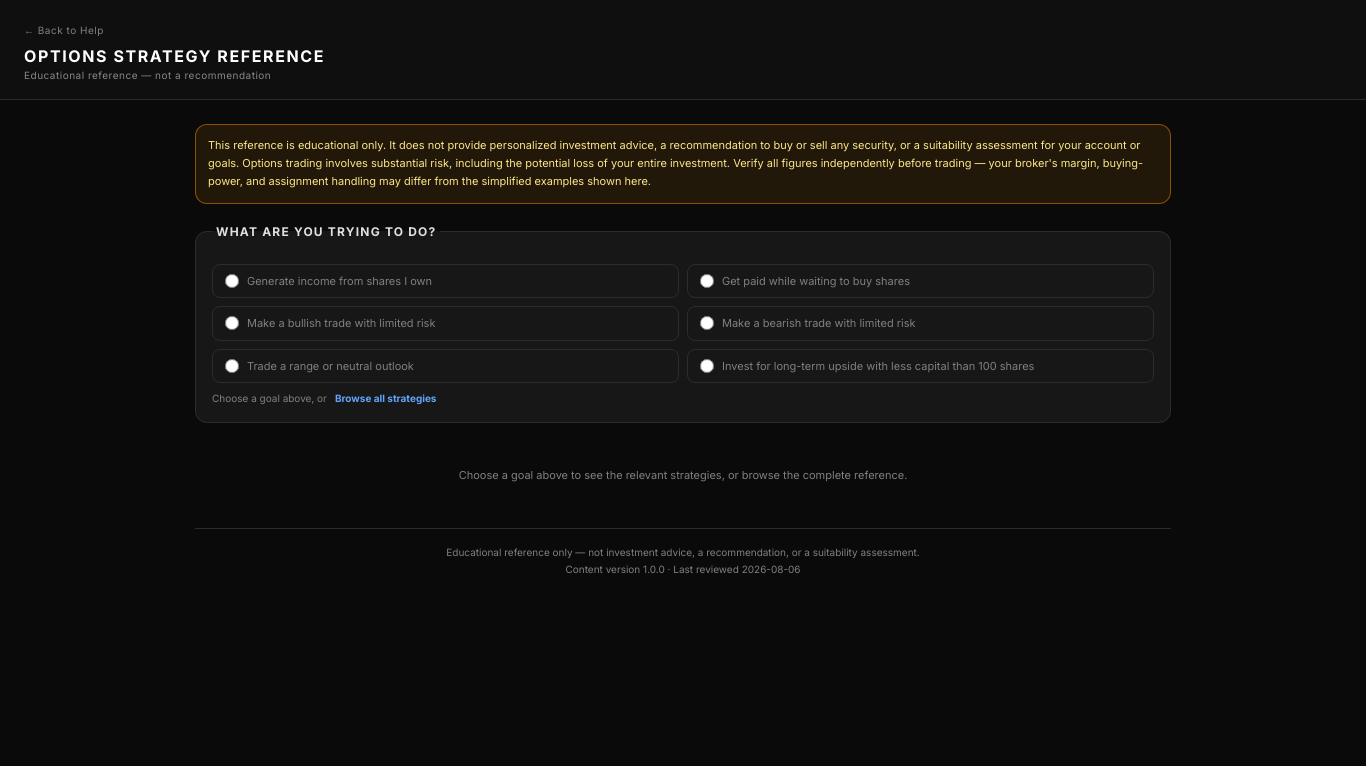
HELP-0001: Options Strategy Reference page › goal selection and filtered card rendering › "Browse all strategies" (shown once a goal is active) clears the goal filter back to all 8
Click the radio button labelled "Get paid while waiting to buy shares": x=707, y=281 [700,274,714,288]
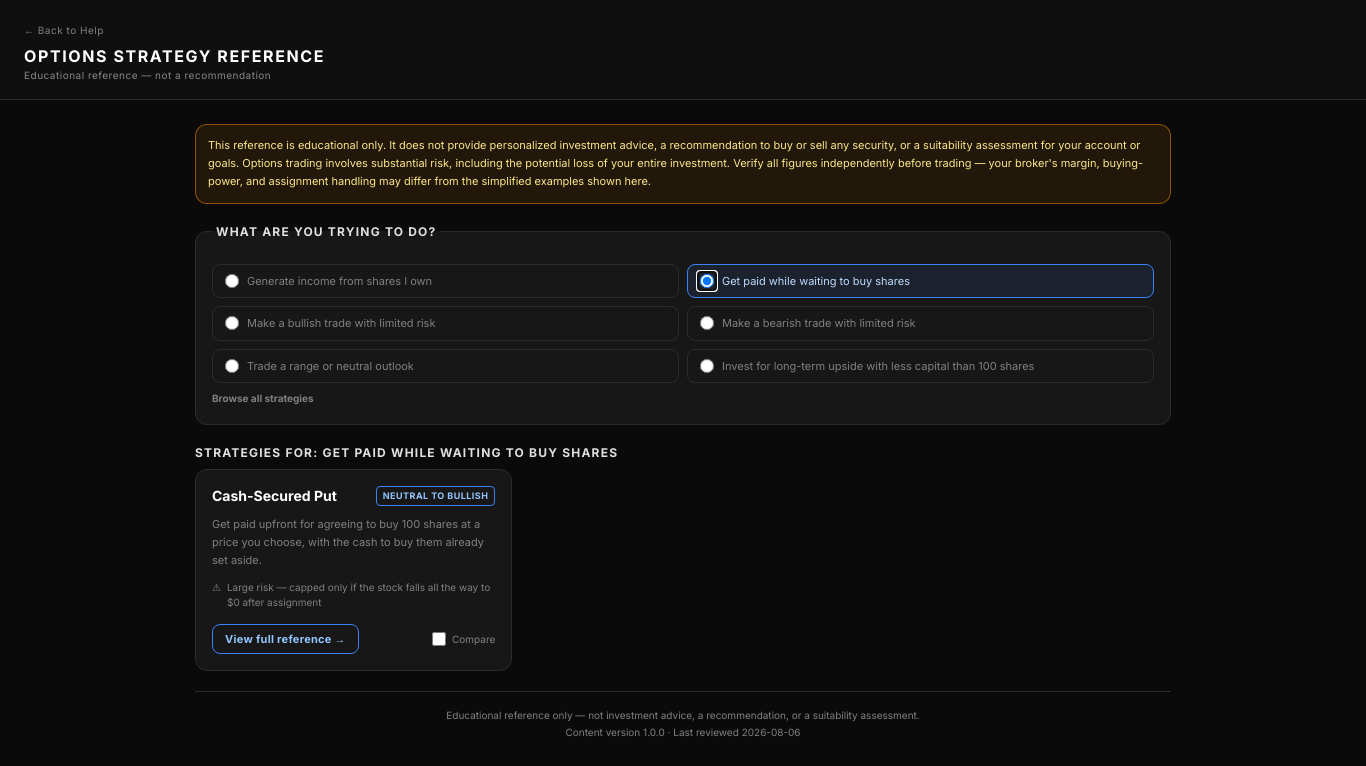
Check: the number of buttons "View full reference →" is 1, box [212,624,359,654]
Click the button "Browse all strategies": x=263, y=399 [212,391,314,406]
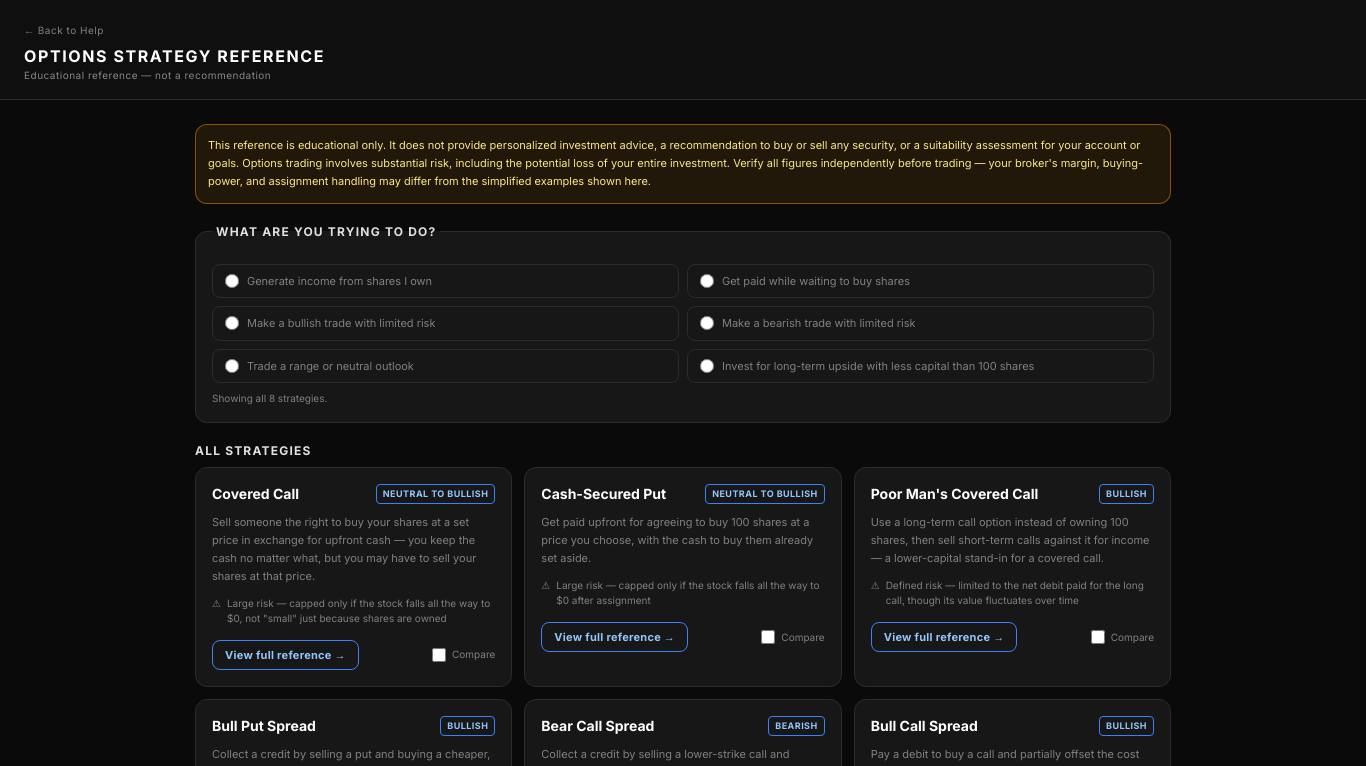
Check: the radio button labelled "Generate income from shares I own" is not checked, box [225,274,239,288]
Check: the radio button labelled "Get paid while waiting to buy shares" is not checked, box [700,274,714,288]
Check: the number of buttons "View full reference →" is 8
